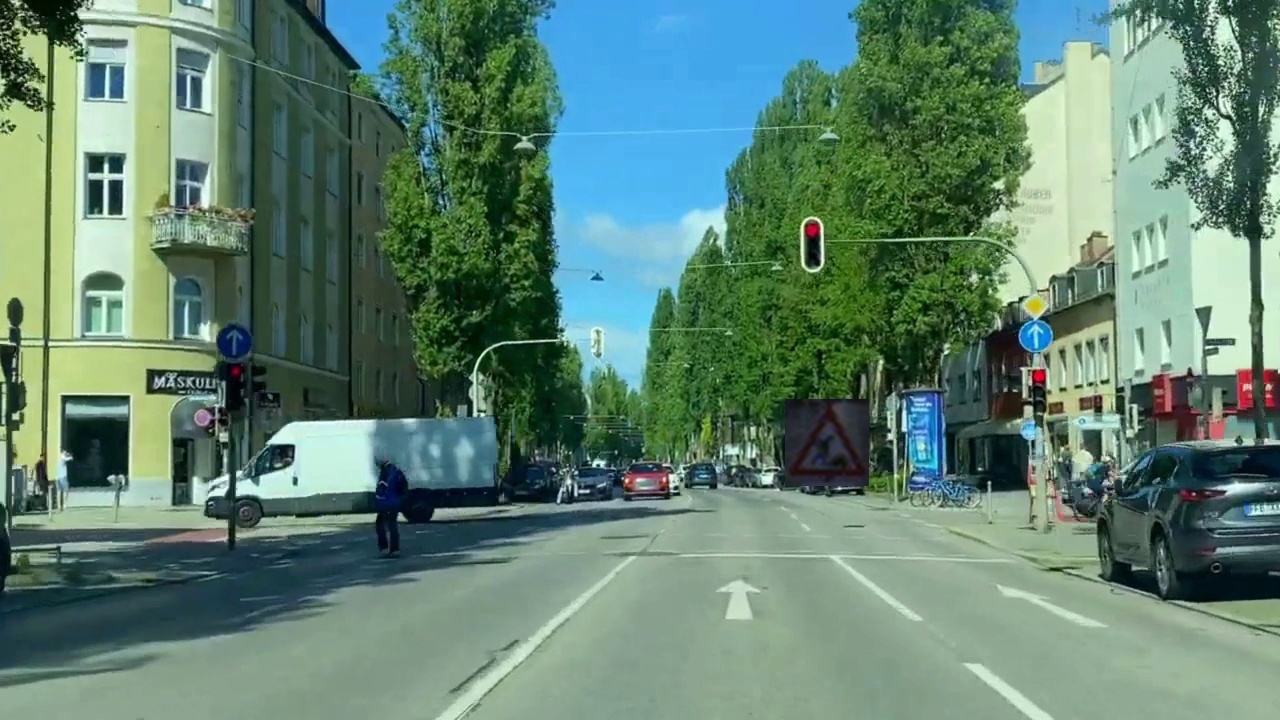Road work: (785, 399, 869, 486)
